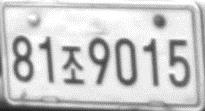0: (114, 37, 137, 86)
1: (142, 37, 160, 87), (37, 34, 54, 84)
5: (167, 38, 190, 87)
8: (11, 34, 33, 81)
9: (87, 36, 110, 85)
조: (60, 45, 85, 84)
